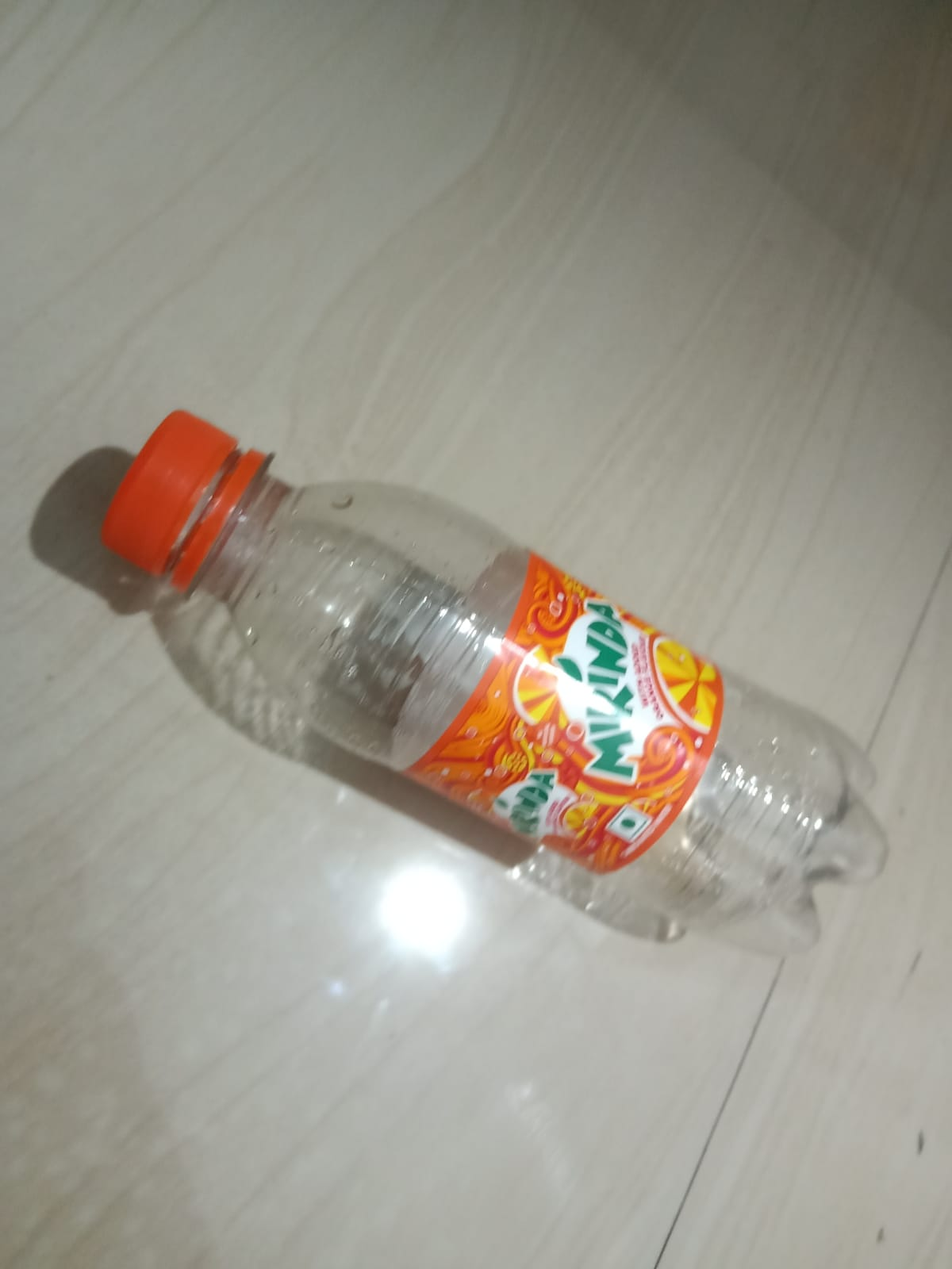plastic: (48, 339, 952, 1030)
